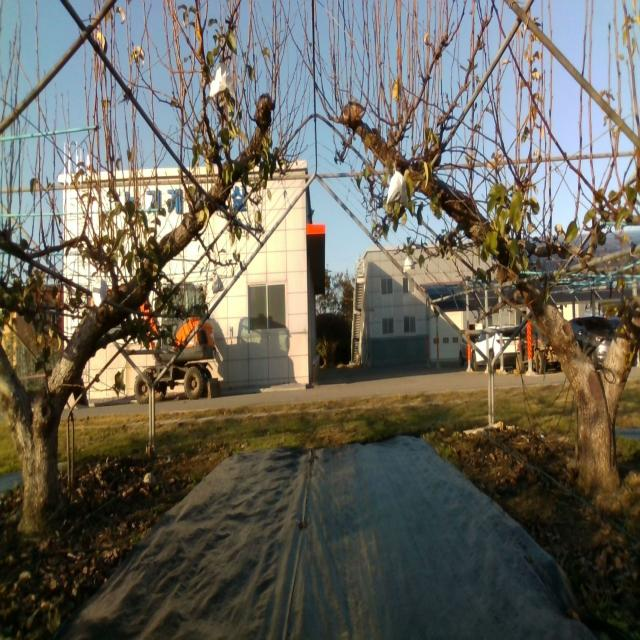pearbags: (210, 61, 237, 100), (386, 171, 408, 207), (92, 270, 107, 308), (212, 270, 224, 295), (403, 255, 415, 273)
